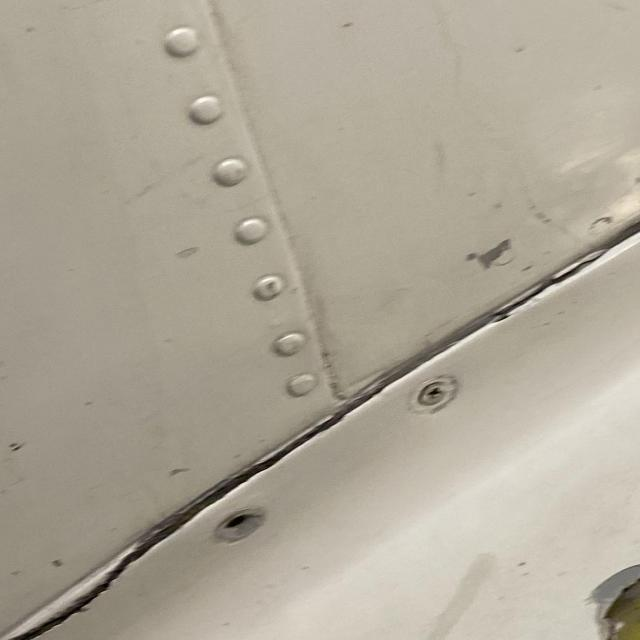Crack: (0, 544, 153, 640), (604, 577, 640, 640)
Missing-head: (213, 509, 265, 543)
Paint-off: (465, 238, 514, 270)
